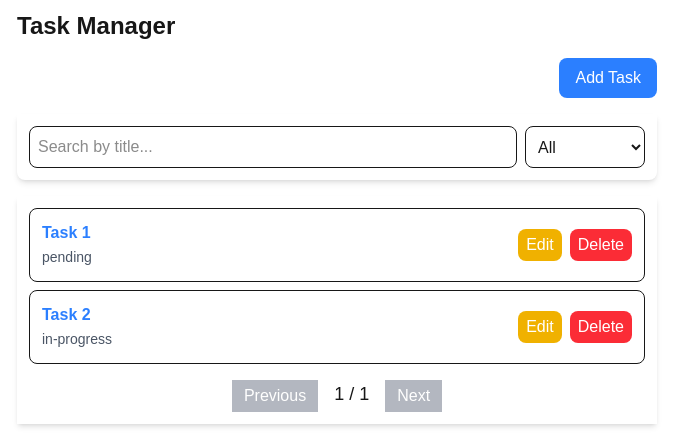
Test: TaskList Component › shows no tasks message when no tasks match search
Type "Nonexistent Task" into the field with placeholder "Search by title..." at (273,147), box [29,126,517,168]
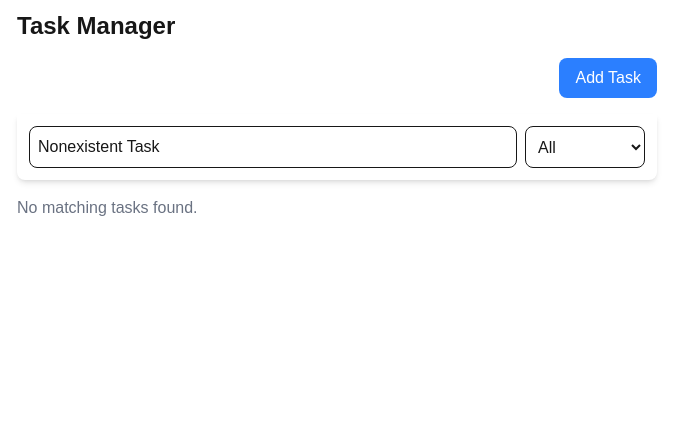
Expected: the text "No matching tasks found." is shown, [17,199,198,216]
